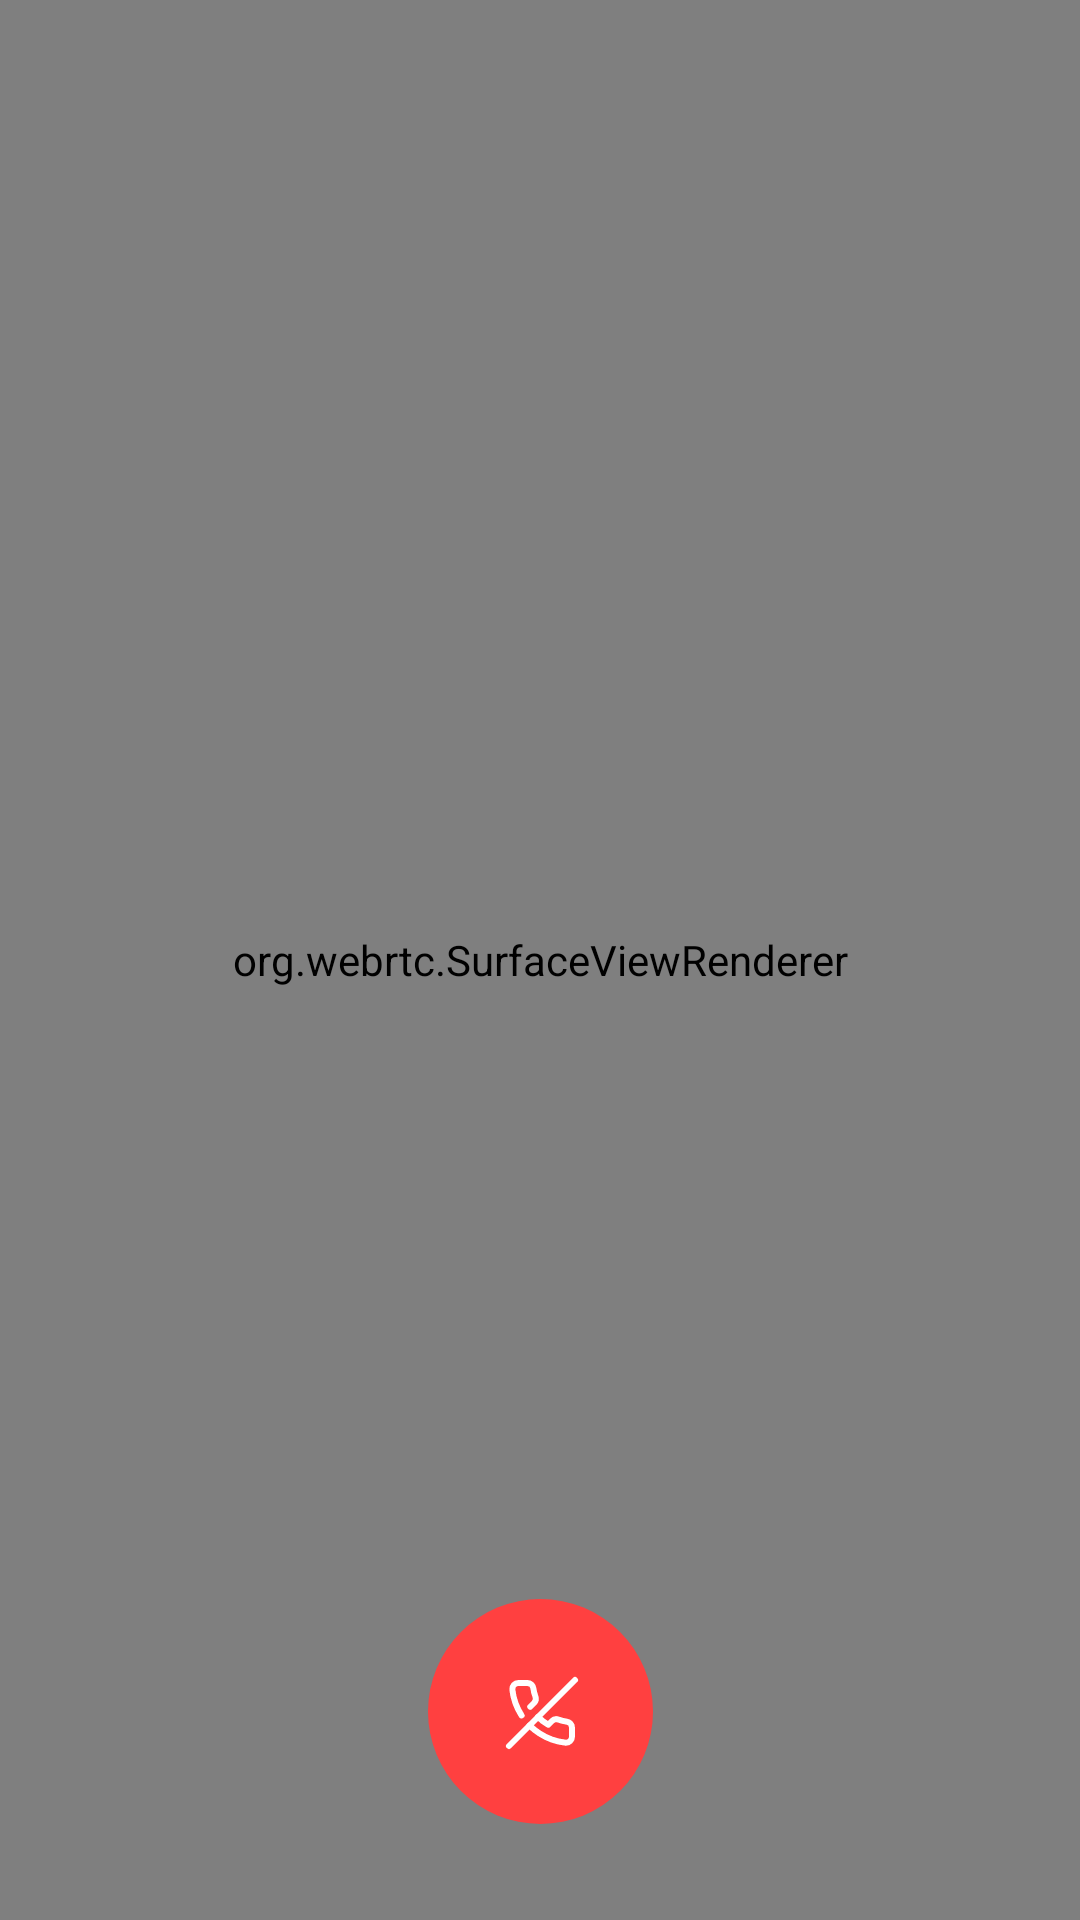

Screen size 1080*1920. Icon name, then its box in pixels as [left=x1, top=y1, right=x2, bottom=y2]:
end call: [left=428, top=1599, right=653, bottom=1824]
